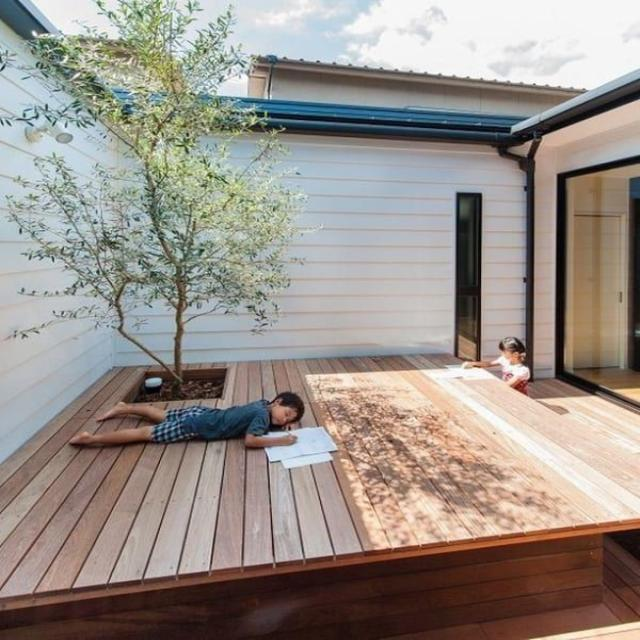door: (555, 154, 639, 413)
person: (68, 391, 304, 449), (461, 336, 530, 394)
